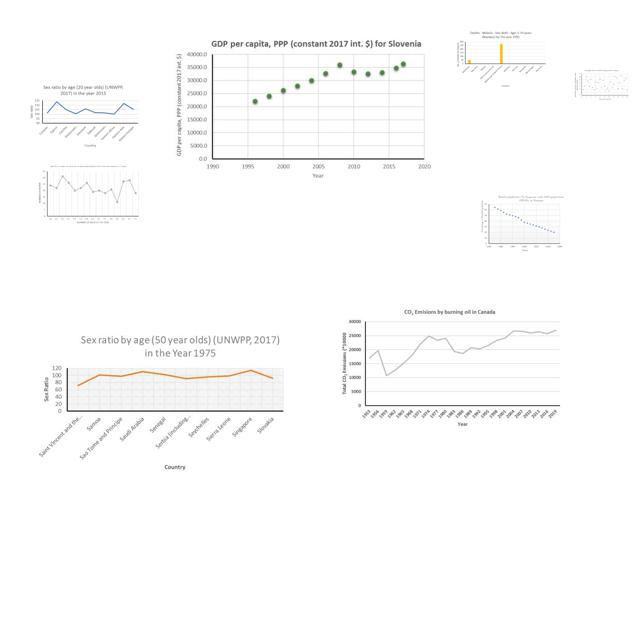Graph: (170, 31, 437, 187), (37, 331, 287, 477), (339, 304, 561, 428), (26, 82, 141, 150), (36, 164, 141, 227), (455, 30, 547, 88), (479, 193, 566, 254), (573, 69, 630, 101)
